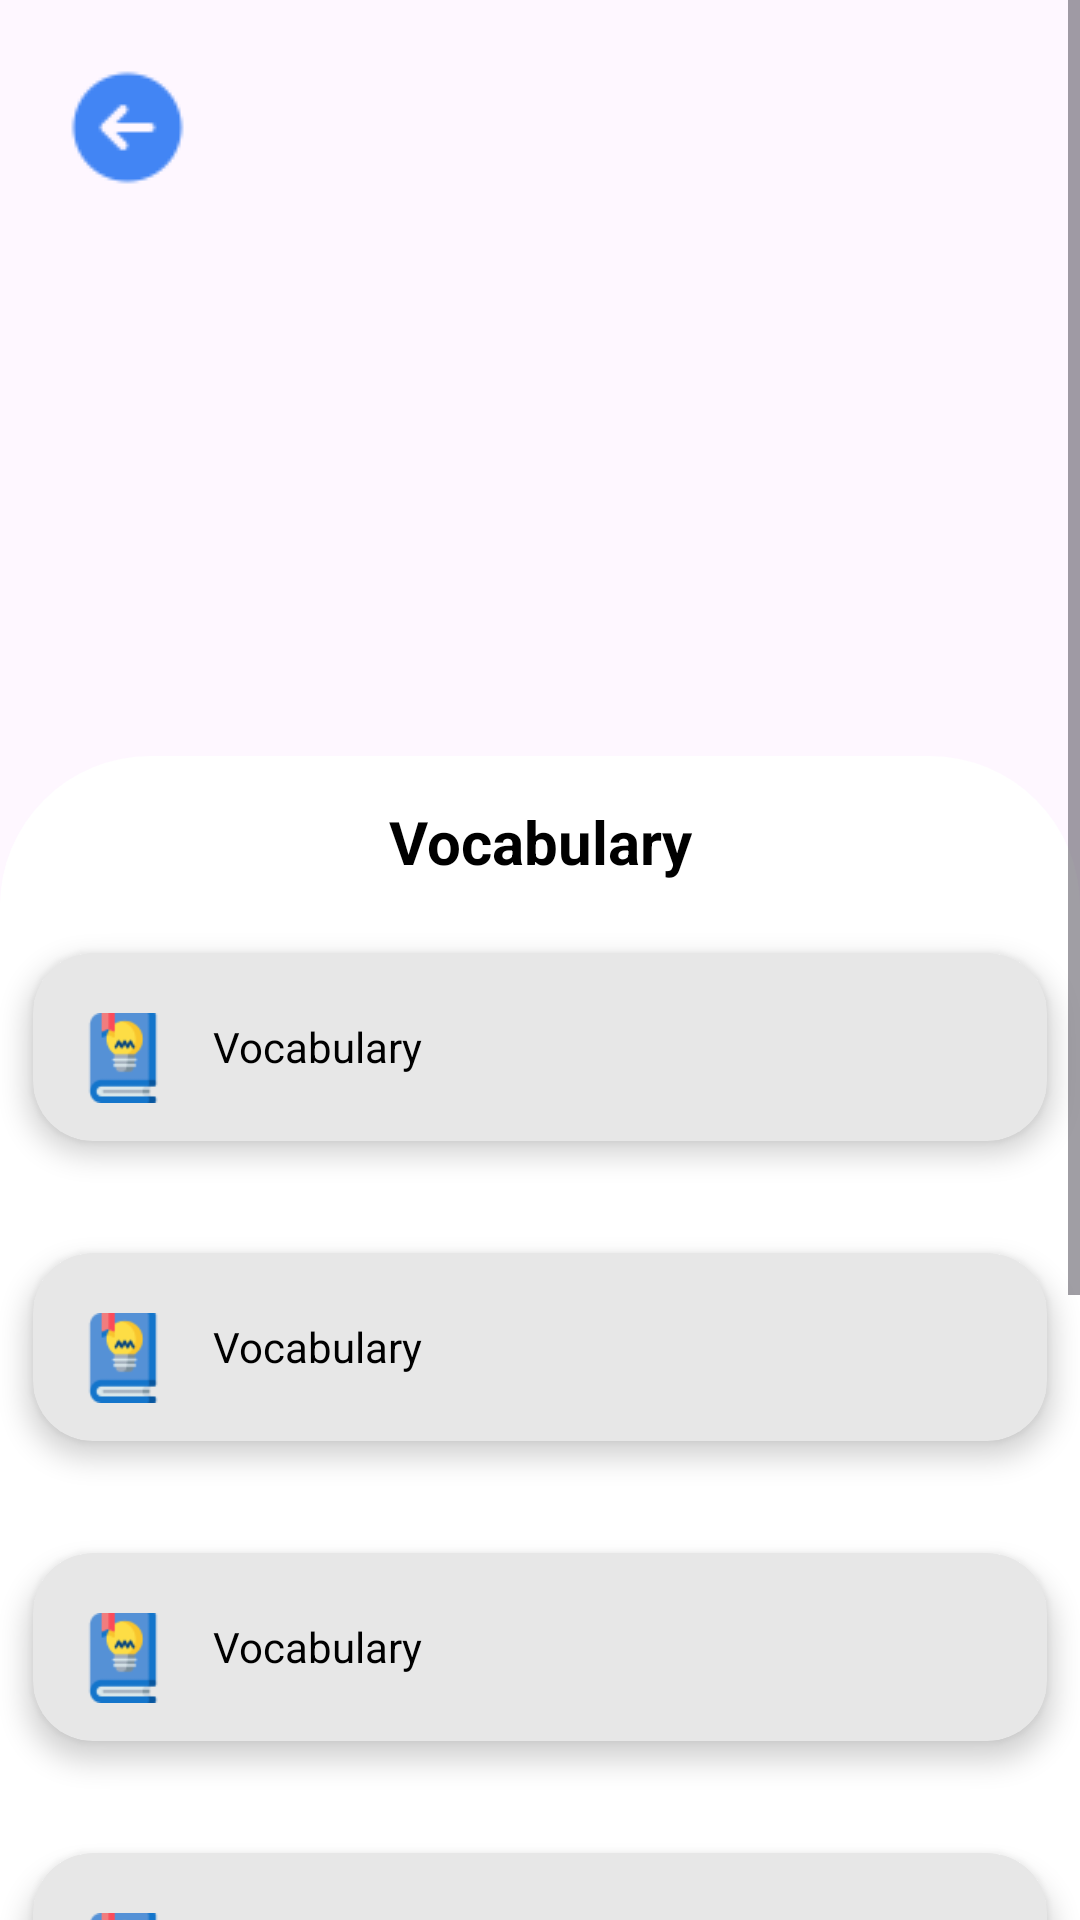

Screen size 1080px×1920px. Icon name, then its center in pixels as [x,y]:
go back: [127,127]
